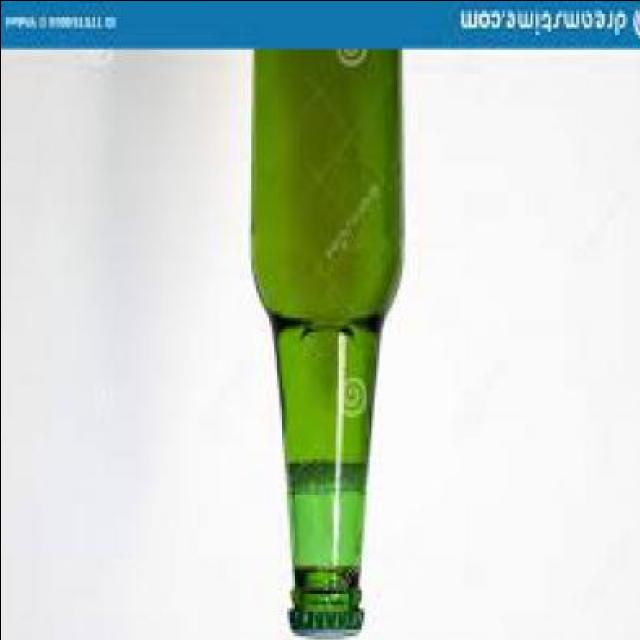kaca: (252, 52, 403, 614)
